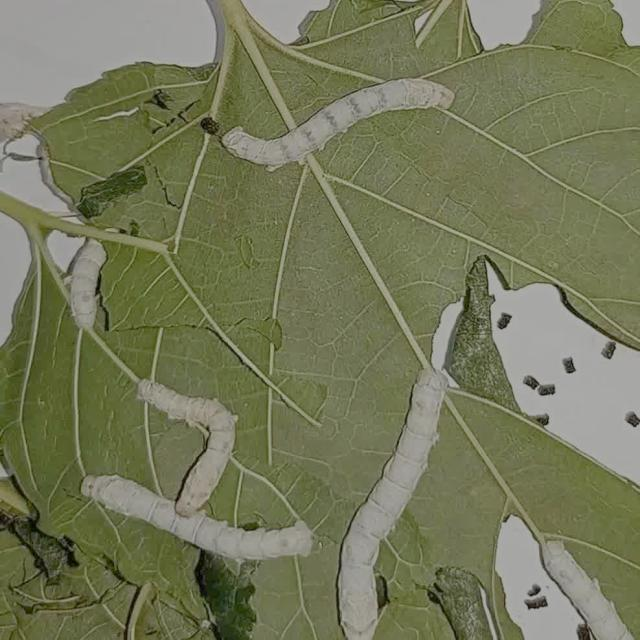Healthy: (332, 332, 472, 640), (192, 57, 462, 180)
